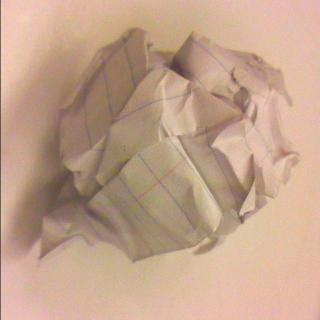Anorganik: (33, 27, 303, 270)
